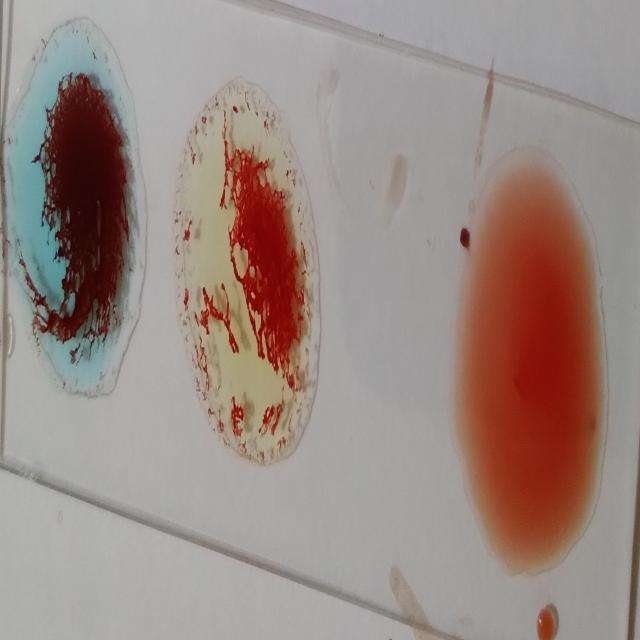A: (18, 19, 146, 375)
B: (178, 81, 316, 459)
